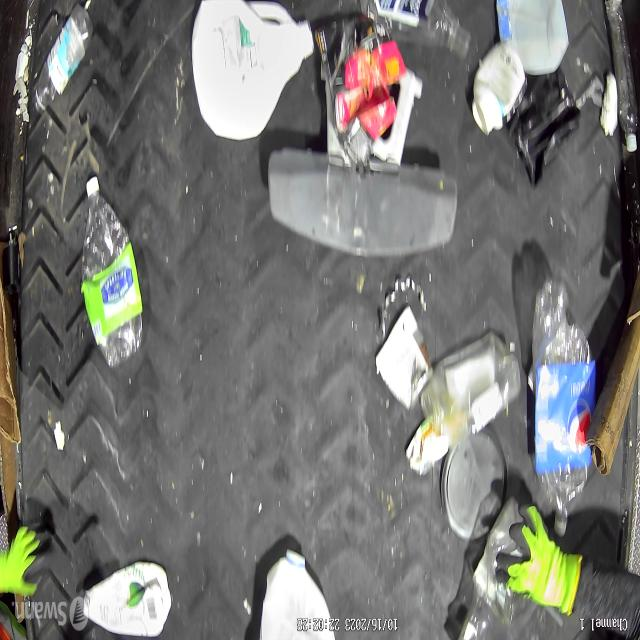milk_jug: (192, 0, 314, 142), (258, 546, 339, 640), (494, 0, 569, 77)
plastic_bottle: (529, 277, 594, 542), (79, 175, 146, 372), (30, 2, 94, 118), (363, 0, 473, 65)
